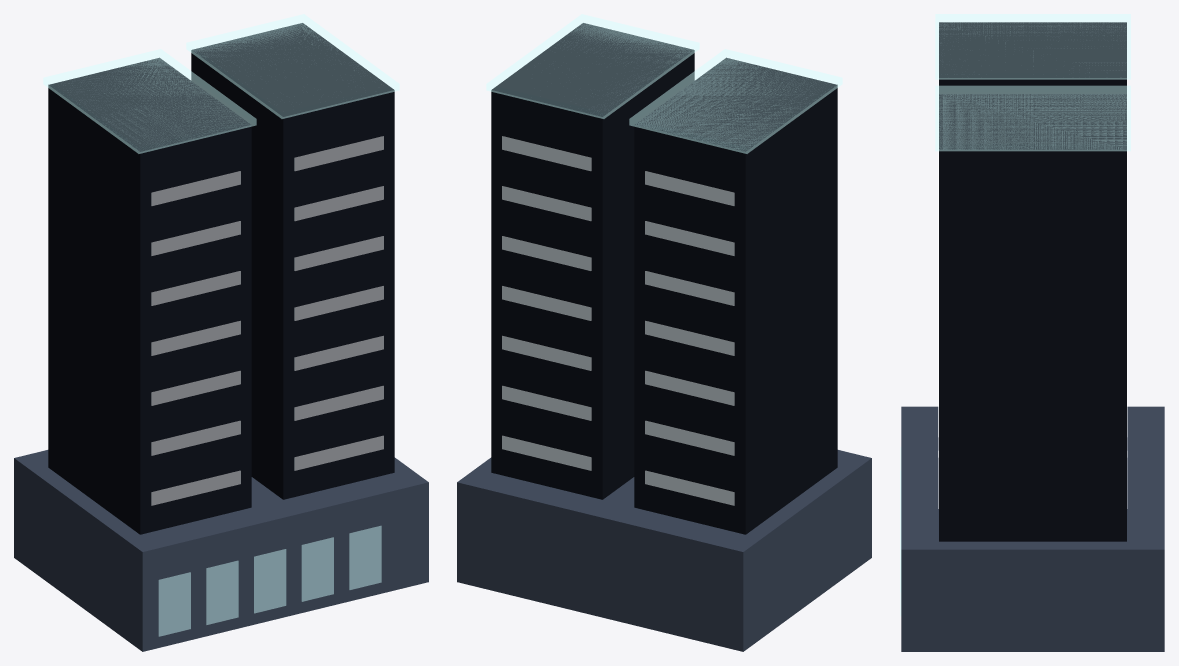
Rendered from skyscraper_tower_c.glb.
The picture shows the model from 3 angles, left to right: view 1: azimuth 30°, elevation 25°; view 2: azimuth 150°, elevation 25°; view 3: azimuth 270°, elevation 25°; orthographic projection. The views are drawn at different scales.
Parts seen in each view (by area): view 1: TowerShellMat, WindowsMat; view 2: TowerShellMat, WindowsMat; view 3: TowerShellMat, WindowsMat.
Boxes of the visible parts, x1,y1,x2,y2 form: TowerShellMat: [14, 23, 428, 651]; WindowsMat: [43, 14, 399, 636]; TowerShellMat: [457, 23, 871, 651]; WindowsMat: [486, 14, 842, 505]; TowerShellMat: [901, 22, 1164, 651]; WindowsMat: [900, 14, 1130, 615].
Size of the model in its own units: 18 by 29.4 by 14.05.
